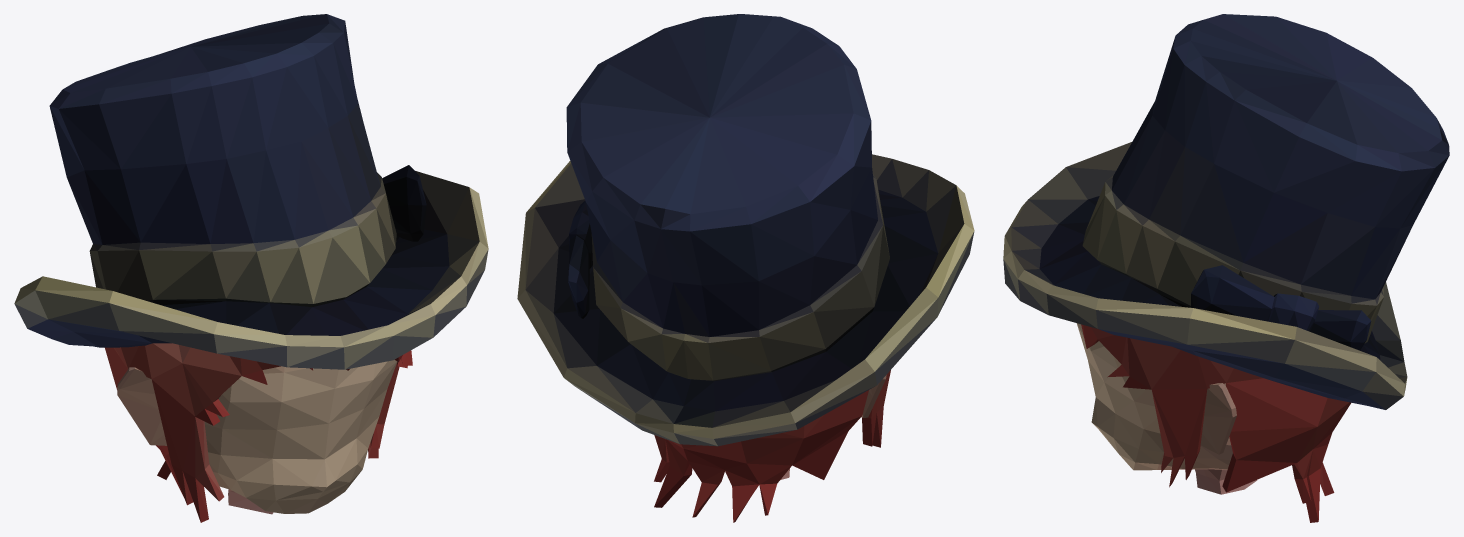
Rendered from helm_lightskin_standard_red_tophat.fbx.
3 views of the same model, side by side, from view 1: azimuth 30°, elevation 25°; view 2: azimuth 150°, elevation 25°; view 3: azimuth 270°, elevation 25° (orthographic). The views are drawn at different scales.
Visible parts, largest first — view 1: helm_lightskin_standard_red_tophat; view 2: helm_lightskin_standard_red_tophat; view 3: helm_lightskin_standard_red_tophat.
Boxes of the visible parts, x1,y1,x2,y2 form: helm_lightskin_standard_red_tophat: (14,14,488,522); helm_lightskin_standard_red_tophat: (517,14,974,522); helm_lightskin_standard_red_tophat: (1003,14,1449,522).
Size of the model in its own units: 1.67 by 1.86 by 1.64.
